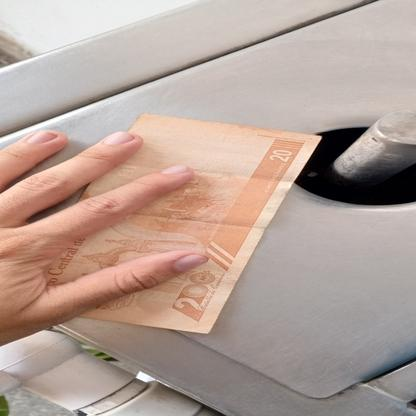twenty-back-vef: (41, 112, 322, 334)
